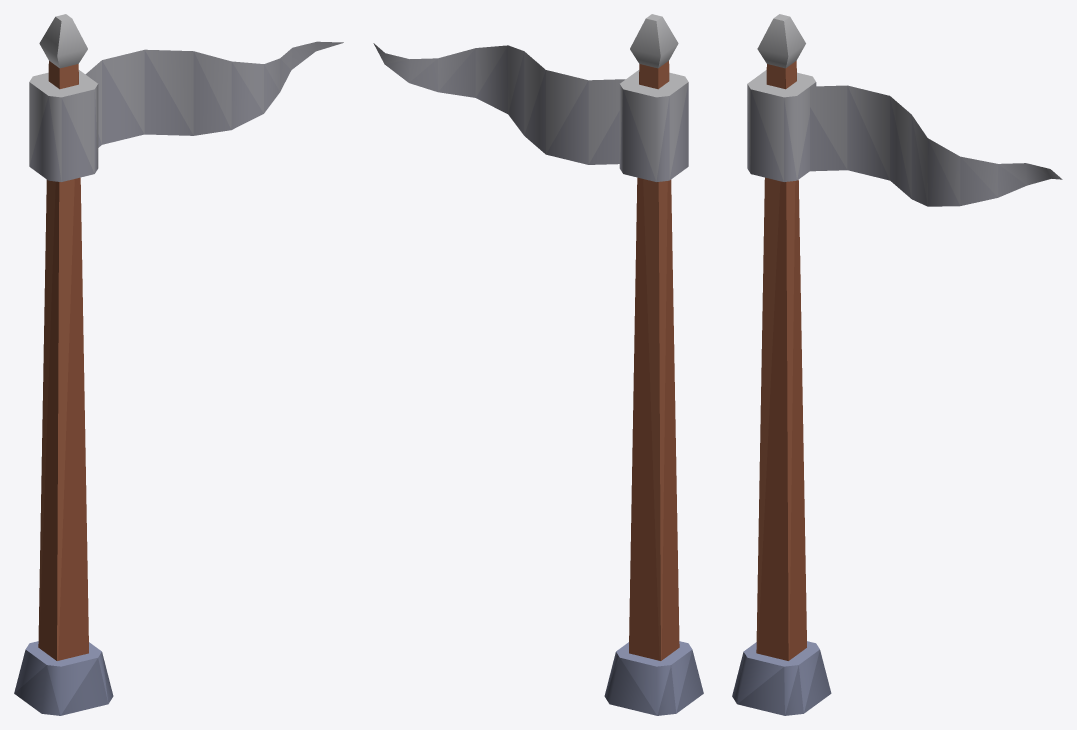
File: pirate_flag_high_pennant.glb
3 views of the same model, side by side, from view 1: azimuth 30°, elevation 25°; view 2: azimuth 150°, elevation 25°; view 3: azimuth 330°, elevation 25° (orthographic).
Parts seen in each view (by area): view 1: pirate_flag_high_pennant; view 2: pirate_flag_high_pennant; view 3: pirate_flag_high_pennant.
Boxes of the visible parts, box(x1,y1,x2,y2) form: pirate_flag_high_pennant: box(14, 14, 343, 715); pirate_flag_high_pennant: box(373, 14, 703, 715); pirate_flag_high_pennant: box(732, 14, 1062, 715).
Size of the model in its own units: 1.76 by 3.6 by 0.3989.
